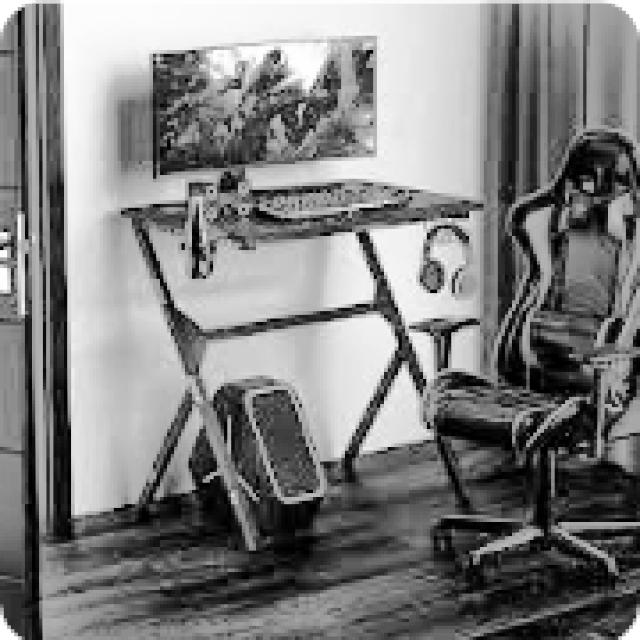book: (409, 126, 636, 586)
table: (118, 175, 484, 547)
